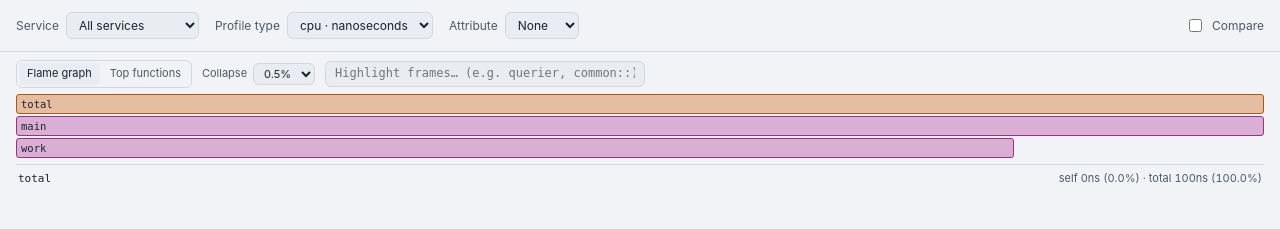
Test: ProfilesView › top functions view › clicking a function row highlights it back on the flame graph
Expected: the button "work" is shown, [16, 138, 1014, 158]
Click the tab "Top functions".
click(145, 74)  # box [102, 63, 189, 85]
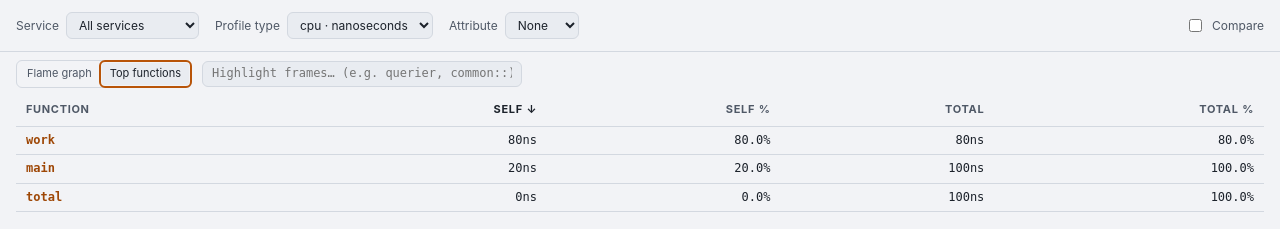
Click the button "work".
click(40, 141)  # box [26, 132, 55, 149]
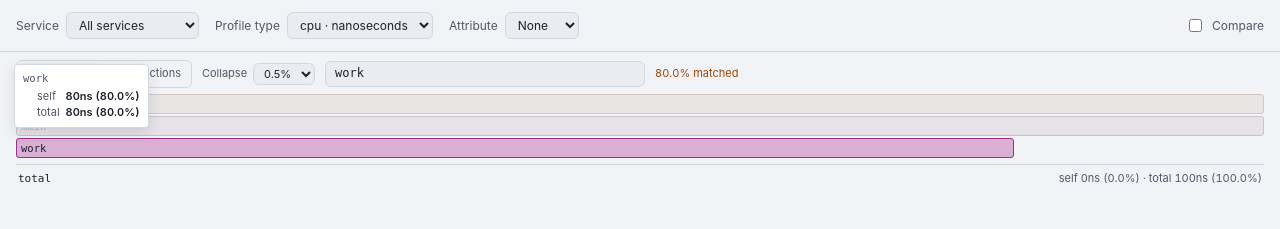
Expected: the field named "Highlight frames" holds "work", [325, 61, 645, 87]
